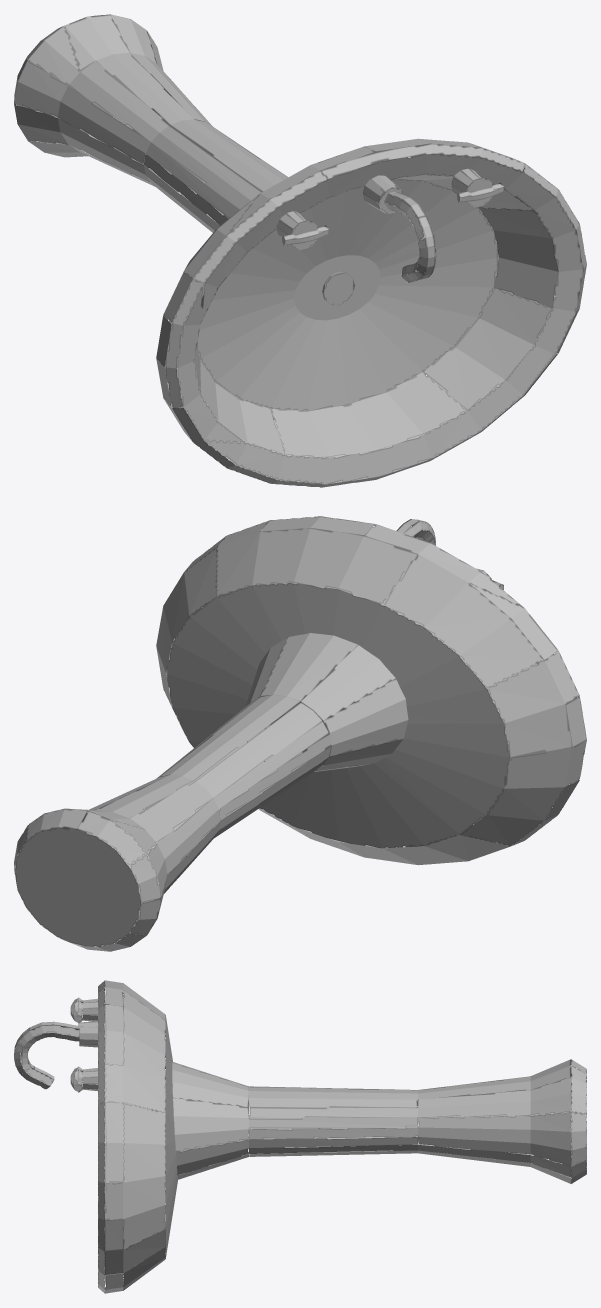
Rendered from pz_sink_white_standing.obj.
The picture shows the model from 3 angles, top to bottom: view 1: azimuth 30°, elevation 25°; view 2: azimuth 150°, elevation 25°; view 3: azimuth 270°, elevation 25°; orthographic projection. The views are drawn at different scales.
Visible parts, largest first — view 1: pz_sink_white_standing_|_open_rounded_ceramic_bowl, pz_sink_white_standing_|_tapered_rounded_pedestal, pz_sink_white_standing_|_EDITABLE_curved_spout_|_export_mesh, pz_sink_white_standing_|_faucet_socket, pz_sink_white_standing_|_tap_stem_0.145, pz_sink_white_standing_|_drain_disc, pz_sink_white_standing_|_tap_stem_-0.145; view 2: pz_sink_white_standing_|_open_rounded_ceramic_bowl, pz_sink_white_standing_|_tapered_rounded_pedestal, pz_sink_white_standing_|_EDITABLE_curved_spout_|_export_mesh; view 3: pz_sink_white_standing_|_tapered_rounded_pedestal, pz_sink_white_standing_|_open_rounded_ceramic_bowl, pz_sink_white_standing_|_EDITABLE_curved_spout_|_export_mesh, pz_sink_white_standing_|_faucet_socket, pz_sink_white_standing_|_tap_stem_0.145, pz_sink_white_standing_|_tap_stem_-0.145.
Part boxes in pixels (x1,y1,x2,y2): pz_sink_white_standing_|_open_rounded_ceramic_bowl: (156, 138, 586, 487); pz_sink_white_standing_|_tapered_rounded_pedestal: (14, 14, 288, 232); pz_sink_white_standing_|_EDITABLE_curved_spout_|_export_mesh: (379, 190, 436, 282); pz_sink_white_standing_|_faucet_socket: (363, 175, 403, 213); pz_sink_white_standing_|_tap_stem_0.145: (451, 168, 492, 208); pz_sink_white_standing_|_drain_disc: (322, 271, 354, 305); pz_sink_white_standing_|_tap_stem_-0.145: (276, 211, 317, 250); pz_sink_white_standing_|_open_rounded_ceramic_bowl: (156, 516, 586, 865); pz_sink_white_standing_|_tapered_rounded_pedestal: (14, 633, 408, 951); pz_sink_white_standing_|_EDITABLE_curved_spout_|_export_mesh: (396, 519, 435, 545); pz_sink_white_standing_|_tapered_rounded_pedestal: (172, 1059, 586, 1183); pz_sink_white_standing_|_open_rounded_ceramic_bowl: (98, 980, 178, 1293); pz_sink_white_standing_|_EDITABLE_curved_spout_|_export_mesh: (14, 1021, 82, 1089); pz_sink_white_standing_|_faucet_socket: (78, 1021, 98, 1047); pz_sink_white_standing_|_tap_stem_0.145: (78, 1066, 98, 1092); pz_sink_white_standing_|_tap_stem_-0.145: (78, 997, 98, 1022).
Size of the model in its own units: 0.7 by 0.52 by 1.02.
Materials: 1 (1 with a texture image).
